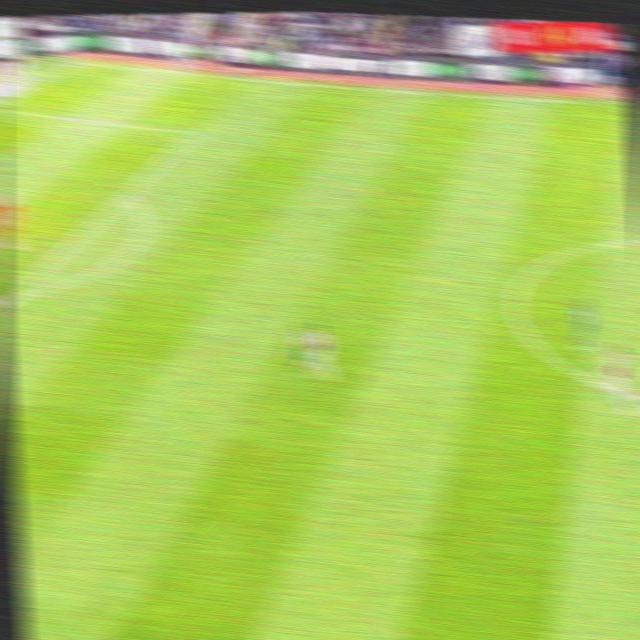bigarea_top_inner: (182, 121, 208, 142)
bigarea_top_outter: (0, 100, 8, 116)
bottom_arc_area_intersection: (2, 284, 28, 305)
corner: (64, 54, 90, 70)
top_arc_area_intersection: (114, 183, 139, 203)
